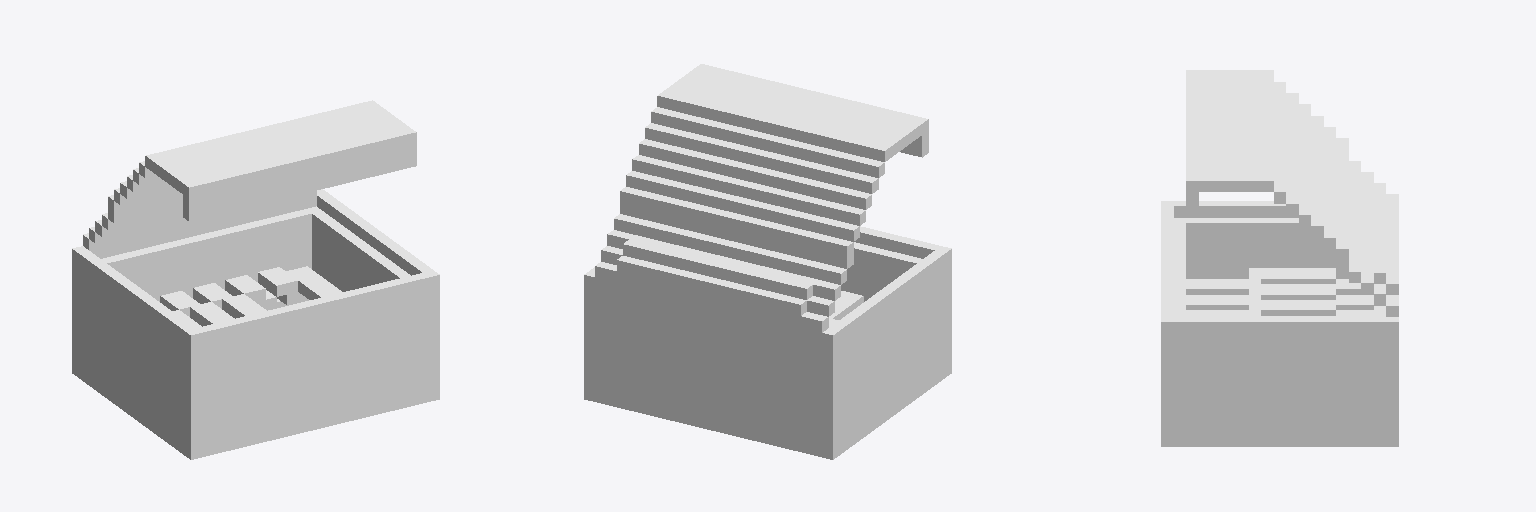
The model's file is acrD.obj.
3 renders of one model, left to right at view 1: azimuth 30°, elevation 25°; view 2: azimuth 150°, elevation 25°; view 3: azimuth 270°, elevation 25°, orthographic.
Parts seen in each view (by area): view 1: object 1; view 2: object 1; view 3: object 1.
Boxes of the visible parts, x1,y1,x2,y2 form: object 1: [72, 100, 439, 459]; object 1: [584, 64, 951, 459]; object 1: [1161, 70, 1398, 446].
Bounding box in the file's own units: 2.3 × 2.3 × 1.9.